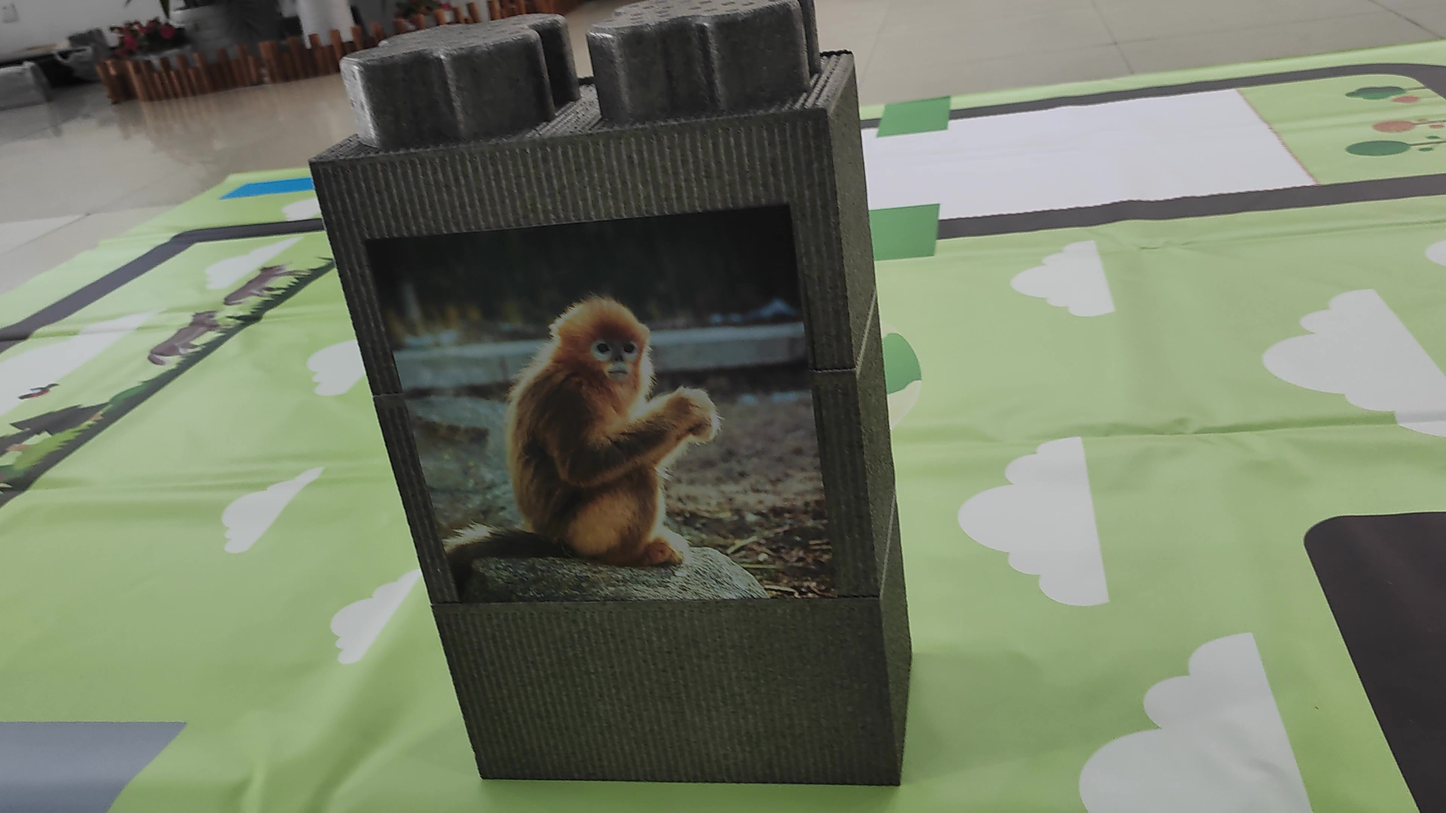monkey: (454, 242, 766, 586)
